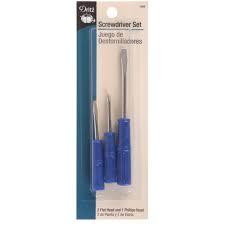screwdriver: (116, 46, 132, 186), (87, 98, 105, 192), (104, 92, 115, 183)
